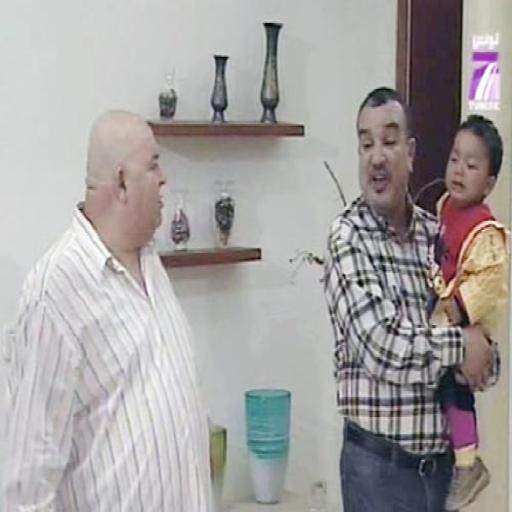sboui: (81, 109, 165, 254)
slimane: (357, 88, 415, 216)
